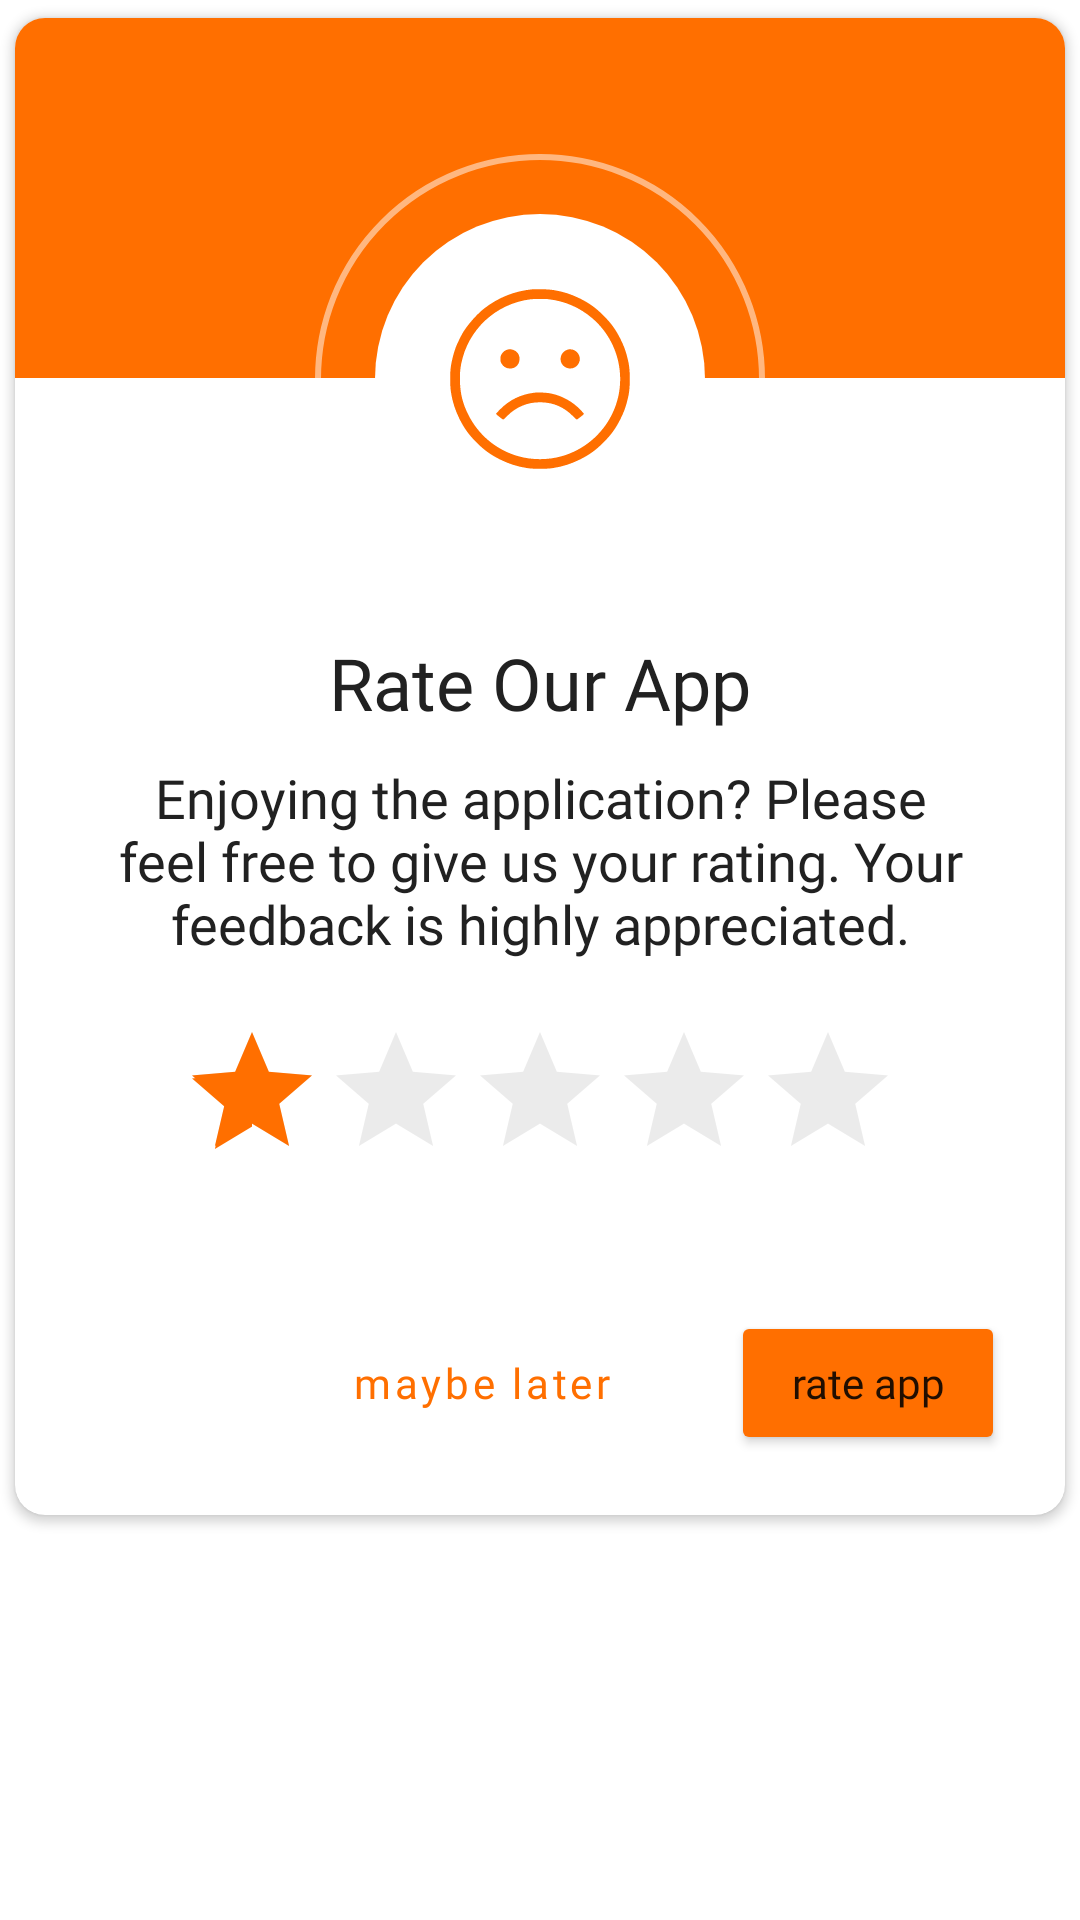

Point at icon controls on the screen. Image size 1080×1920, points as [x,y].
sad emoji: [540,379]
